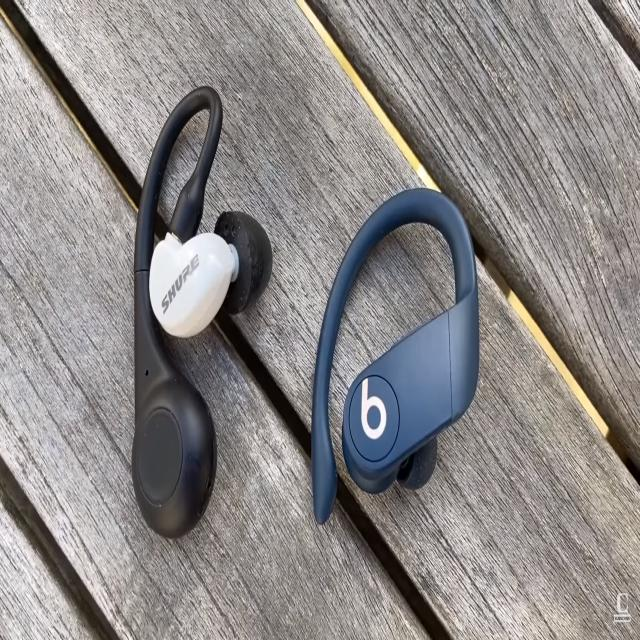airpods: (131, 84, 479, 542)
